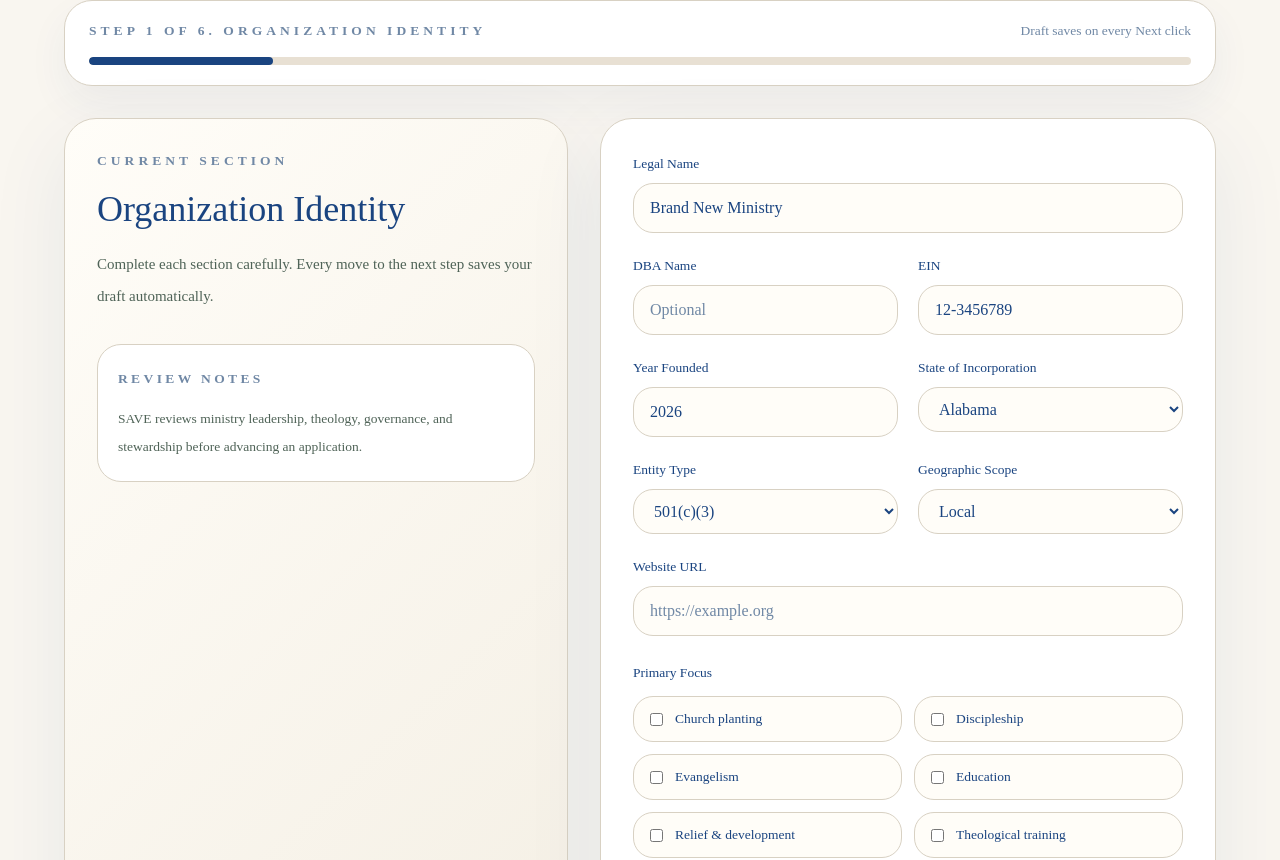
Test case: InquiryForm step 1 completion › lets a brand-new ministry complete step 1
The width and height of the screenshot is (1280, 860).
Click the text "Discipleship": (990, 719) top-left (956, 709), bottom-right (1024, 729)
(page scrolled)
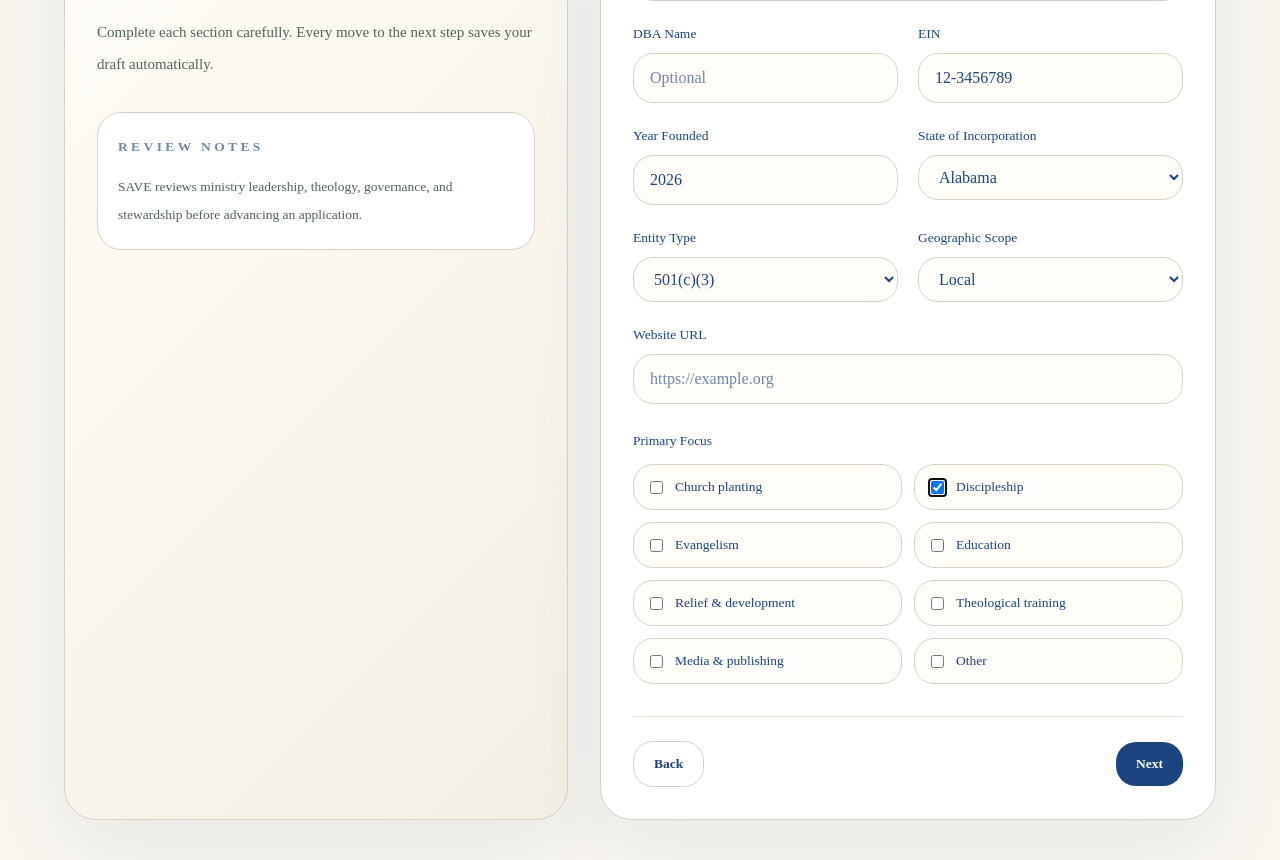
Click the button "Next": (1150, 764) top-left (1116, 742), bottom-right (1183, 786)
(page scrolled)
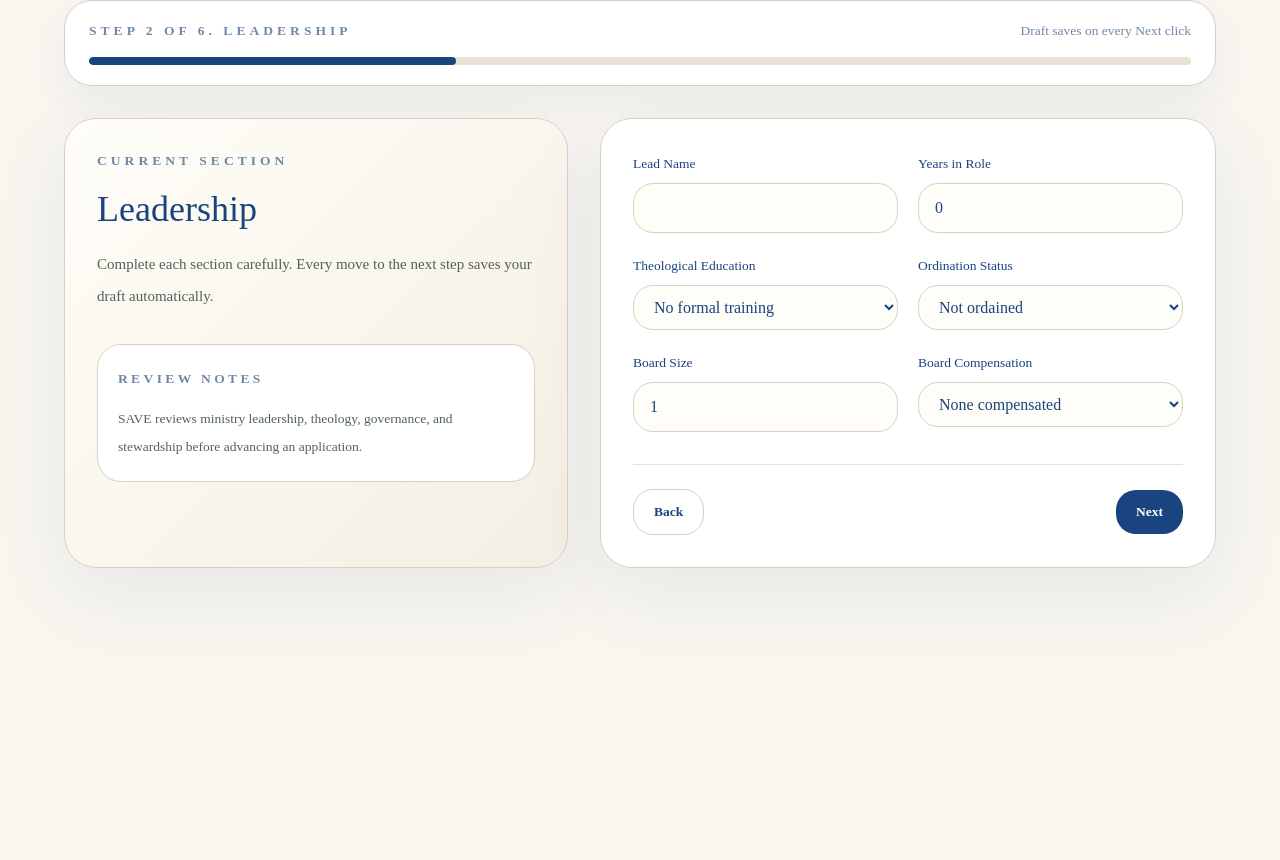
Expected: the heading "Leadership" is shown, top-left (97, 189), bottom-right (257, 229)
